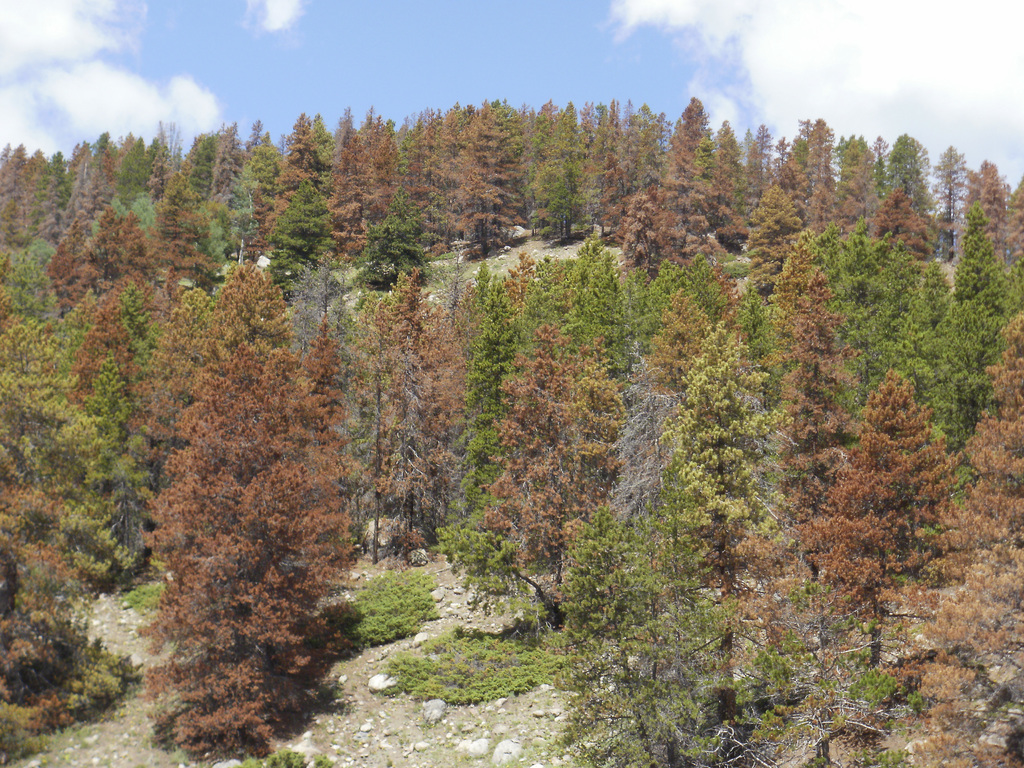Tree: (0, 96, 1024, 767)
